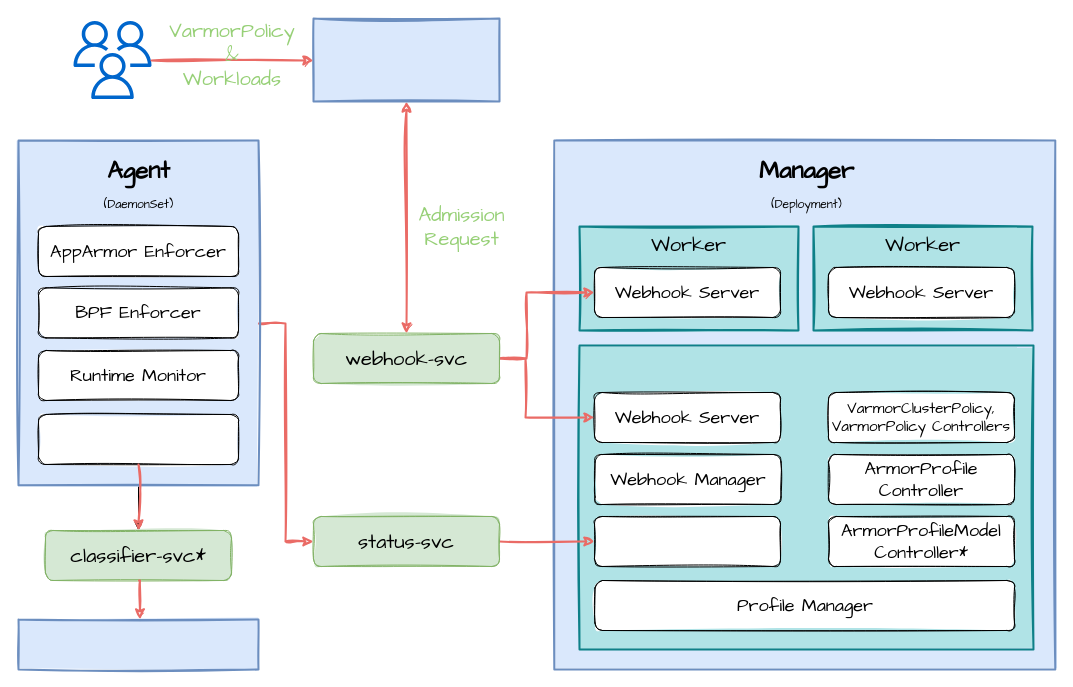
The diagram is 1073 pixels wide and 687 high, and some of its shapes have lost their labels. The shapes that lost their labels are listed below. From the top down, each one's box as (x1, y1, x2, y2) in pixels, then its label:
(312, 17, 500, 102): API Server
(38, 414, 238, 464): Behavior Modeller*
(578, 344, 1034, 650): Leader
(594, 516, 780, 566): Status Manager
(17, 618, 259, 670): Classifier *
